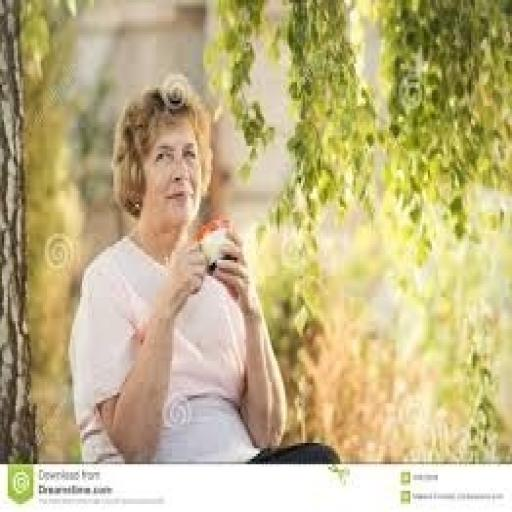drinking: (194, 215, 232, 273)
